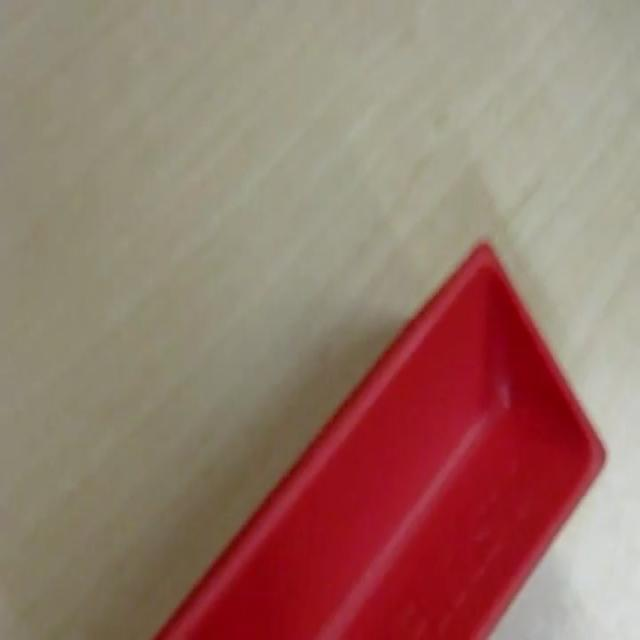red_block: (151, 236, 608, 637)
